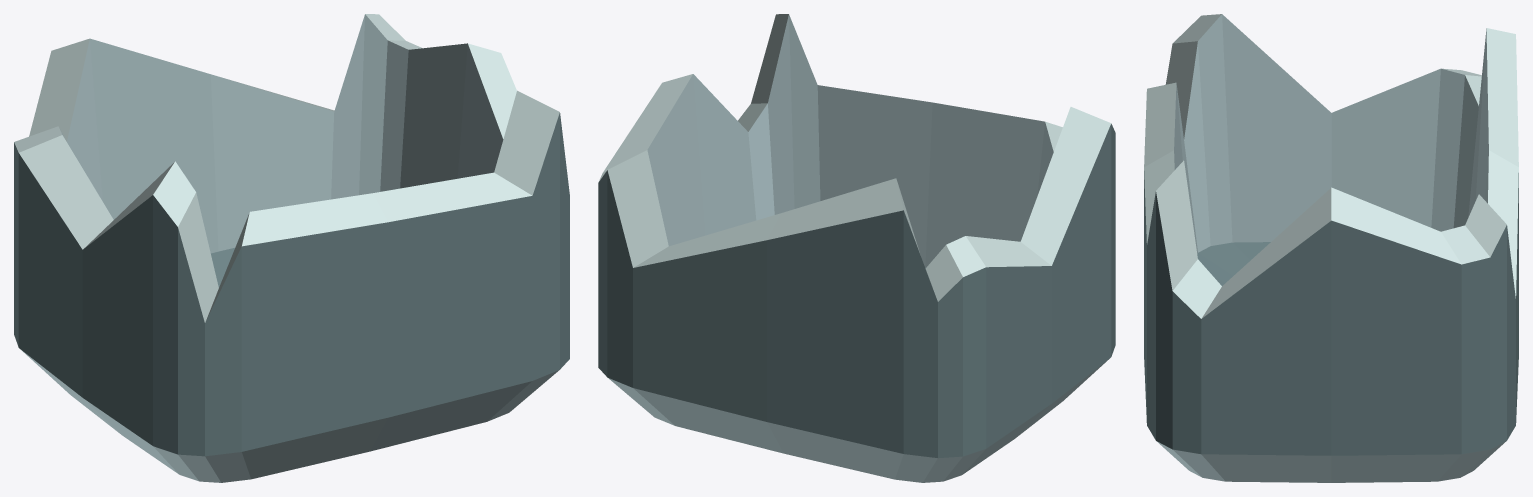
Rendered from vodka_bottle_piece_heel.glb.
3 renders of one model, left to right at view 1: azimuth 30°, elevation 25°; view 2: azimuth 150°, elevation 25°; view 3: azimuth 270°, elevation 25°, orthographic. The views are drawn at different scales.
Visible parts, largest first — view 1: Jagged heavy heel and bottom.001; view 2: Jagged heavy heel and bottom.001; view 3: Jagged heavy heel and bottom.001.
Boxes of the visible parts, x1,y1,x2,y2 form: Jagged heavy heel and bottom.001: [14, 14, 569, 482]; Jagged heavy heel and bottom.001: [598, 14, 1115, 482]; Jagged heavy heel and bottom.001: [1144, 14, 1518, 482].
Bounding box in the file's own units: 0.074 × 0.0552 × 0.0592.
